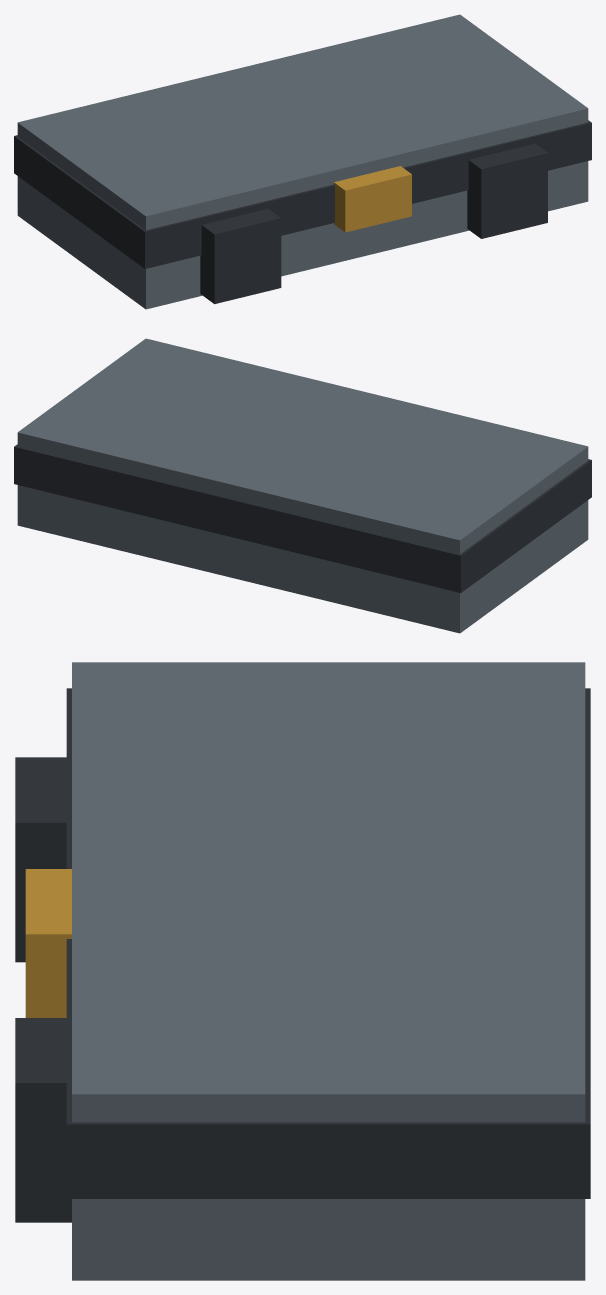
The model's file is pc_recon_lower_torso.fbx.
3 renders of one model, top to bottom at view 1: azimuth 30°, elevation 25°; view 2: azimuth 150°, elevation 25°; view 3: azimuth 270°, elevation 25°, orthographic. The views are drawn at different scales.
Visible parts, largest first — view 1: pc_recon_lower_torso; view 2: pc_recon_lower_torso; view 3: pc_recon_lower_torso.
Boxes of the visible parts, x1,y1,x2,y2 form: pc_recon_lower_torso: [14, 14, 591, 309]; pc_recon_lower_torso: [14, 338, 591, 633]; pc_recon_lower_torso: [15, 662, 590, 1280].
Bounding box in the file's own units: 201 × 40 × 112.
